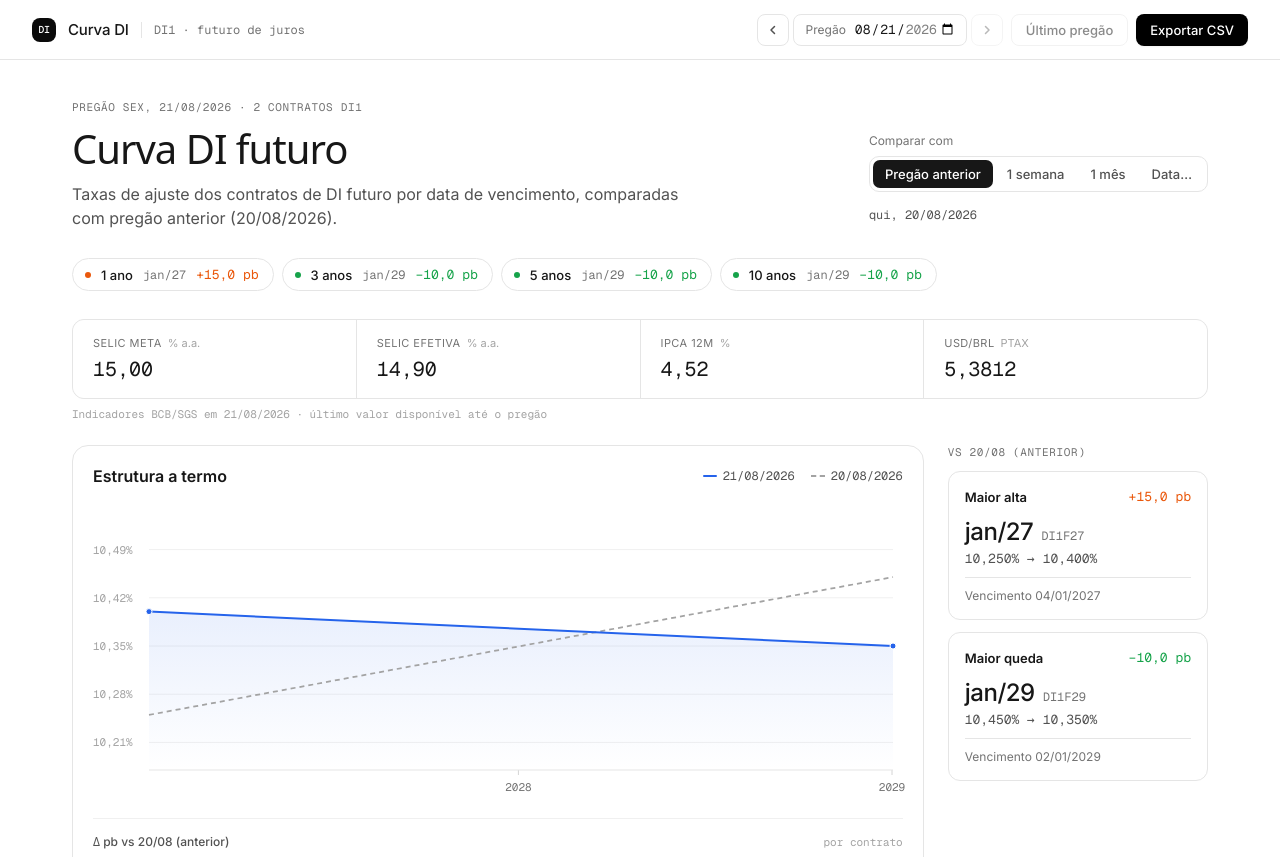
it: App › data sem pregão faz snap para o anterior com aviso neutro e dispensável
Note: 15/08/2026 é sábado
Type "2026-08-15" into the date field labelled "Pregão" at (905,30), box x1=854 y1=20 x2=956 y2=39
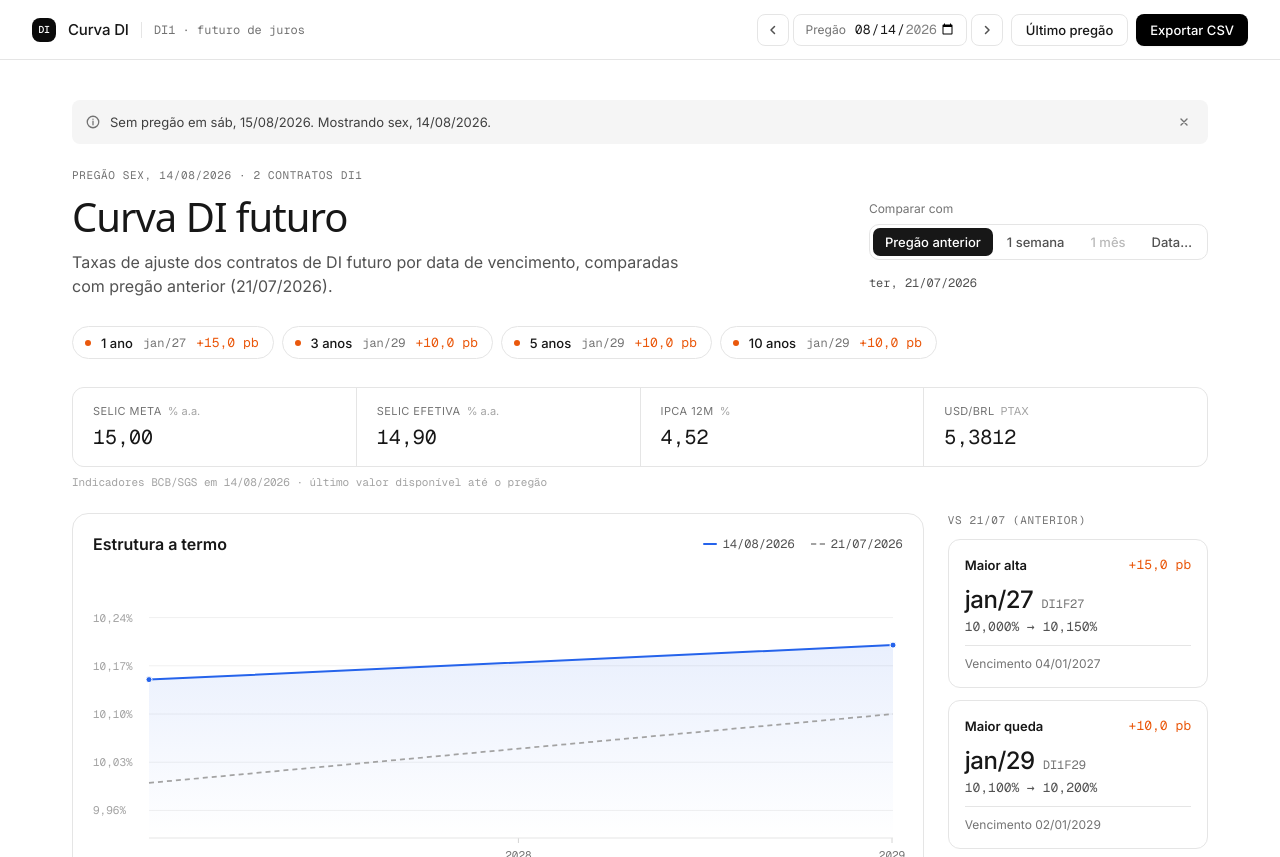
expect the message "Sem pregão em sáb, 15/08/2026. Mostrando sex, 14/08/2026." is shown: met, box x1=72 y1=100 x2=1208 y2=144
expect the message with test id "notice" reads "Sem pregão em sáb, 15/08/2026. Mostrando sex, 14/08/2026.": met, box x1=110 y1=114 x2=491 y2=130
expect the date field labelled "Pregão" holds "2026-08-14": met, box x1=854 y1=20 x2=956 y2=39
Click the button named "Dispensar aviso" at (1184,122), box x1=1172 y1=110 x2=1196 y2=134
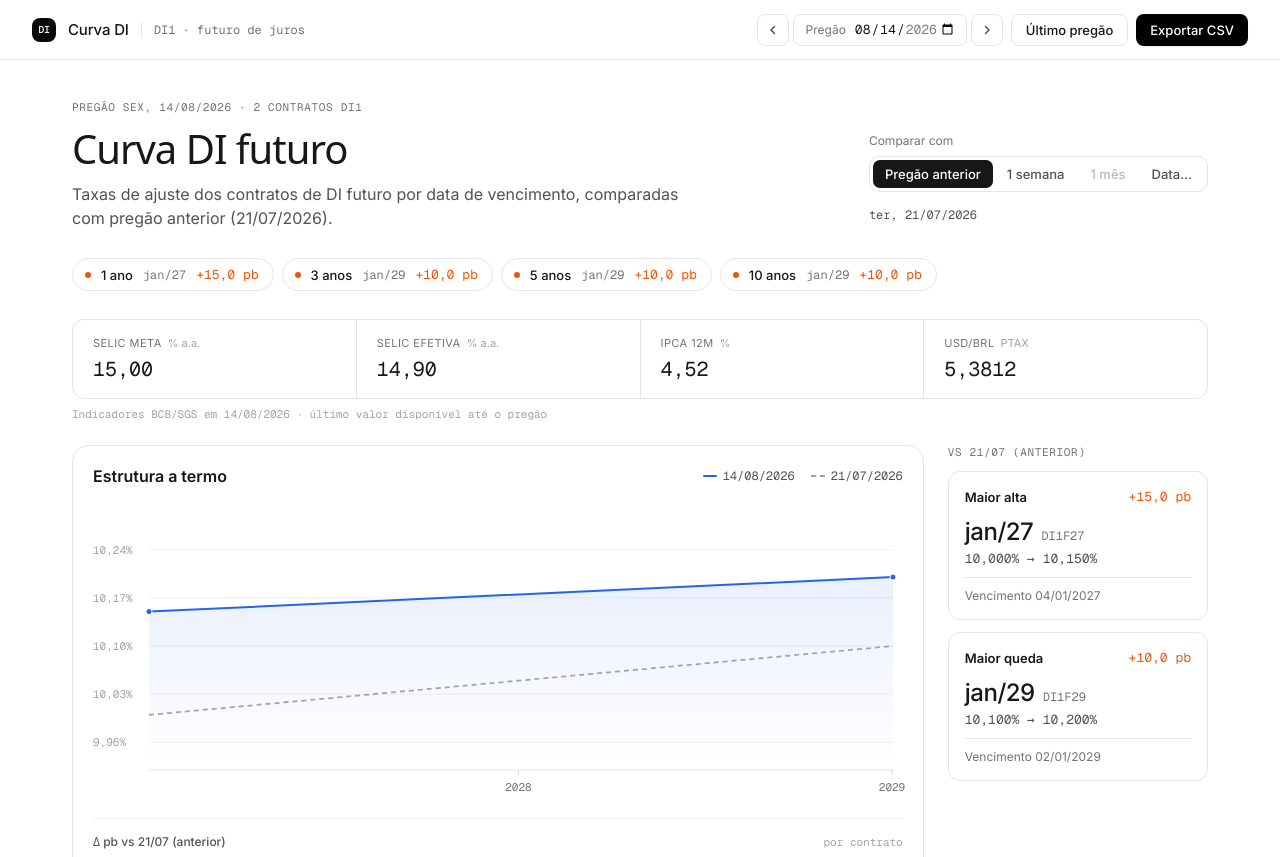
expect the message with test id "notice" is gone: met
